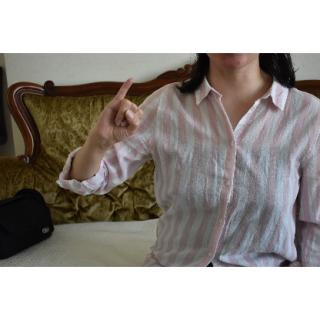MEEM: (86, 76, 147, 143)
